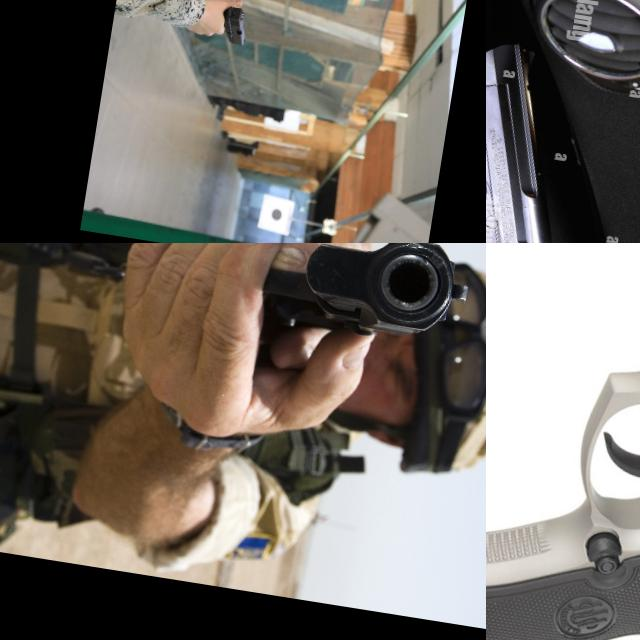handgun: (486, 243, 640, 640), (486, 18, 625, 243), (252, 243, 481, 370), (216, 3, 252, 48)
